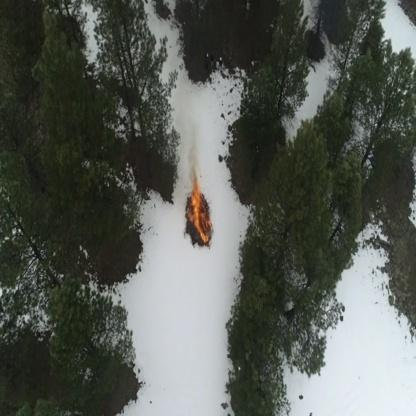Fire: (184, 170, 213, 245)
